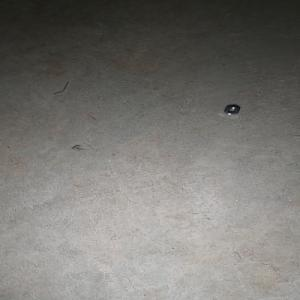Nut: (224, 105, 241, 115)
